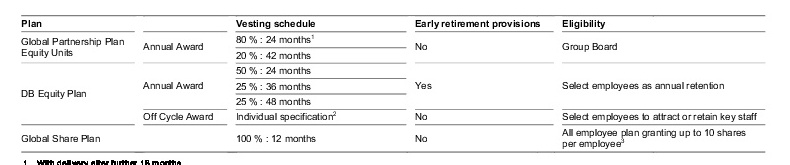table: (0, 0, 790, 165)
